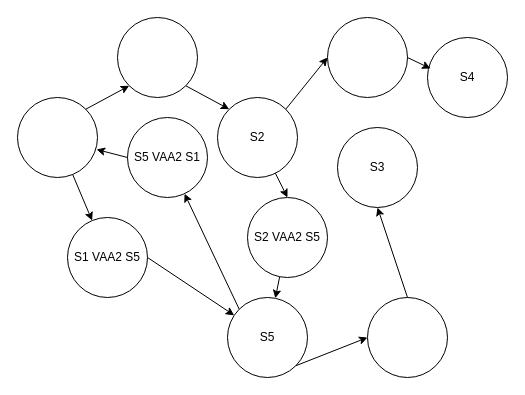
Image size: 525x395. Some labels were removed from this diagram. The box of each missing label's shape, as (x1, y1, x2, y2) in pixels:
S1: (16, 96, 98, 178)
S1 VAA1 S2: (116, 16, 198, 98)
S2 VAA4 S4: (326, 16, 408, 98)
S5 VAA3 S3: (366, 296, 448, 378)
